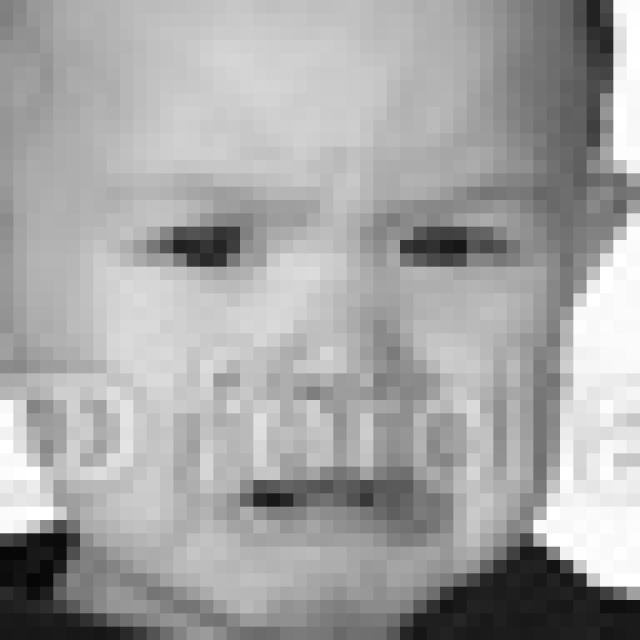sad: (79, 160, 557, 558)
